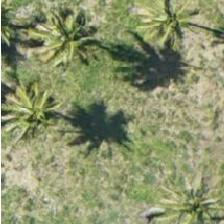Kelapa_Sawit: (20, 0, 110, 79), (0, 70, 78, 160), (127, 0, 217, 62), (149, 154, 224, 224)
